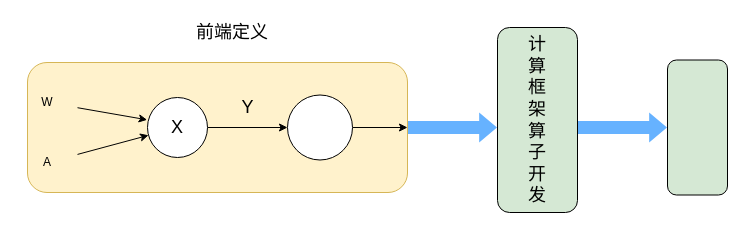
This 745x230 diagram has some shape labels left out. Here are the shapes that lost their labels. From the top down, the centre of each, then its label:
the point at 319,127: ReLu
the point at 697,127: 硬 件 执 行
